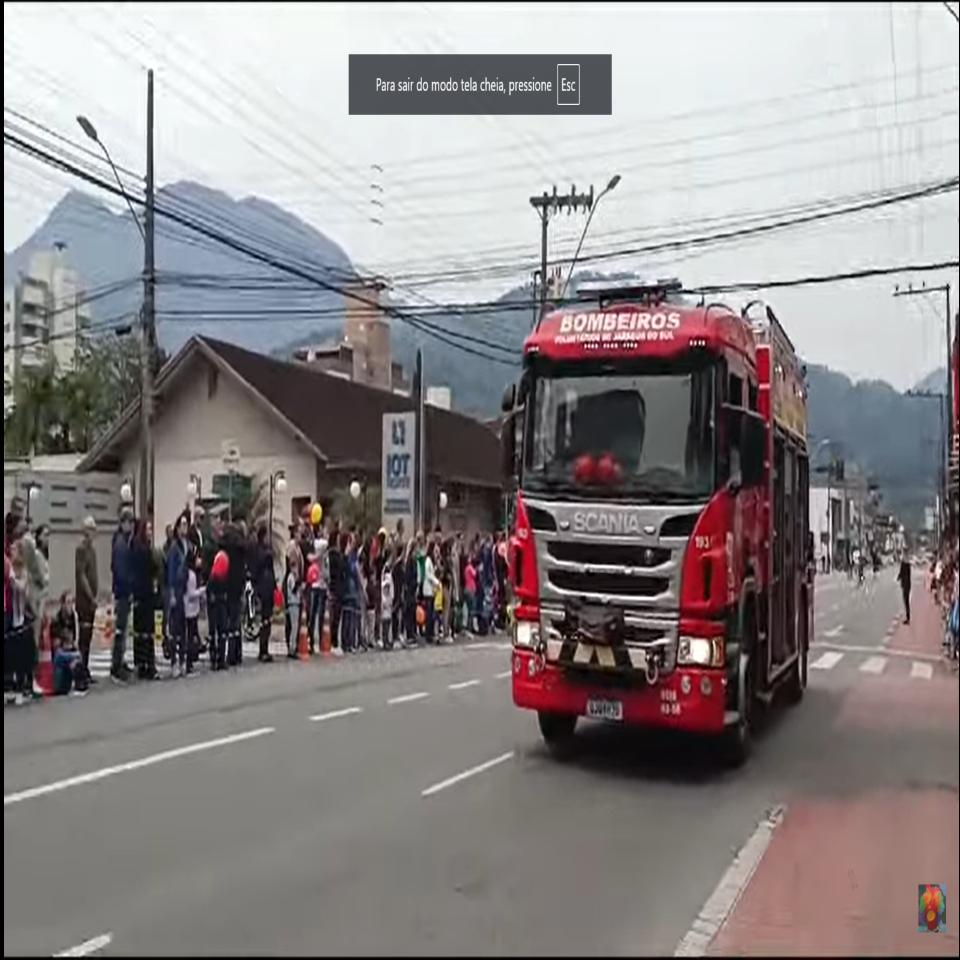viatura: (498, 273, 817, 770)
